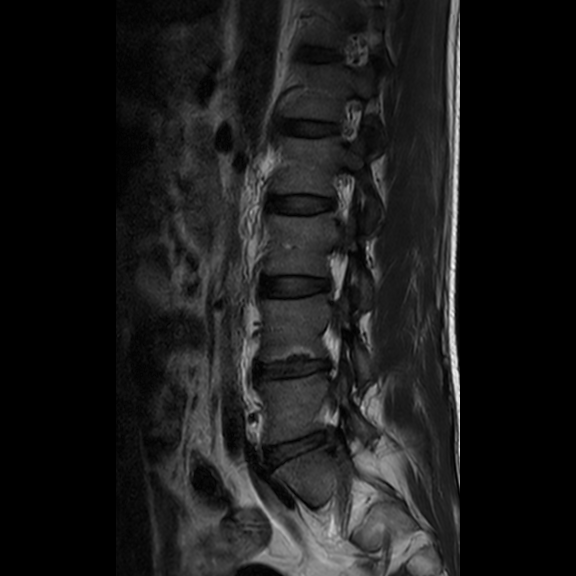LFS0: (326, 89, 371, 152)
